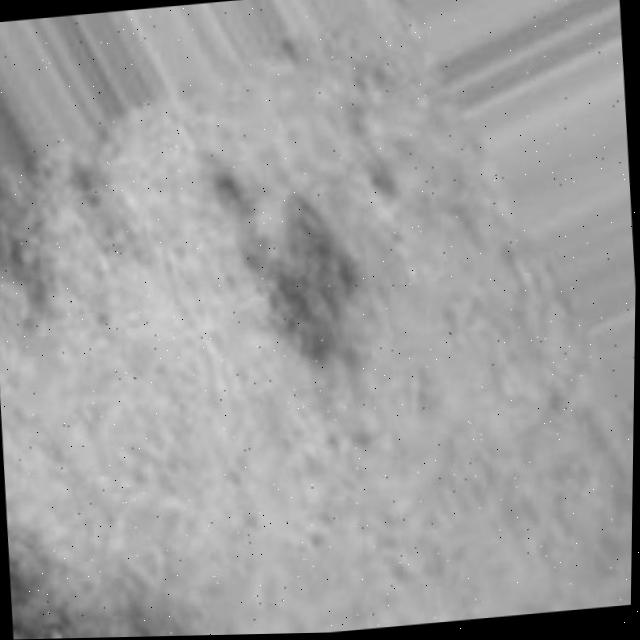Shingles: (245, 175, 392, 358), (5, 518, 188, 640)
